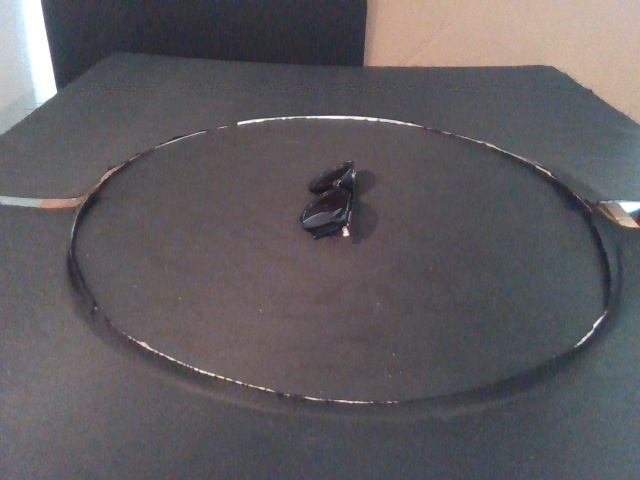glasses: (299, 160, 357, 241)
